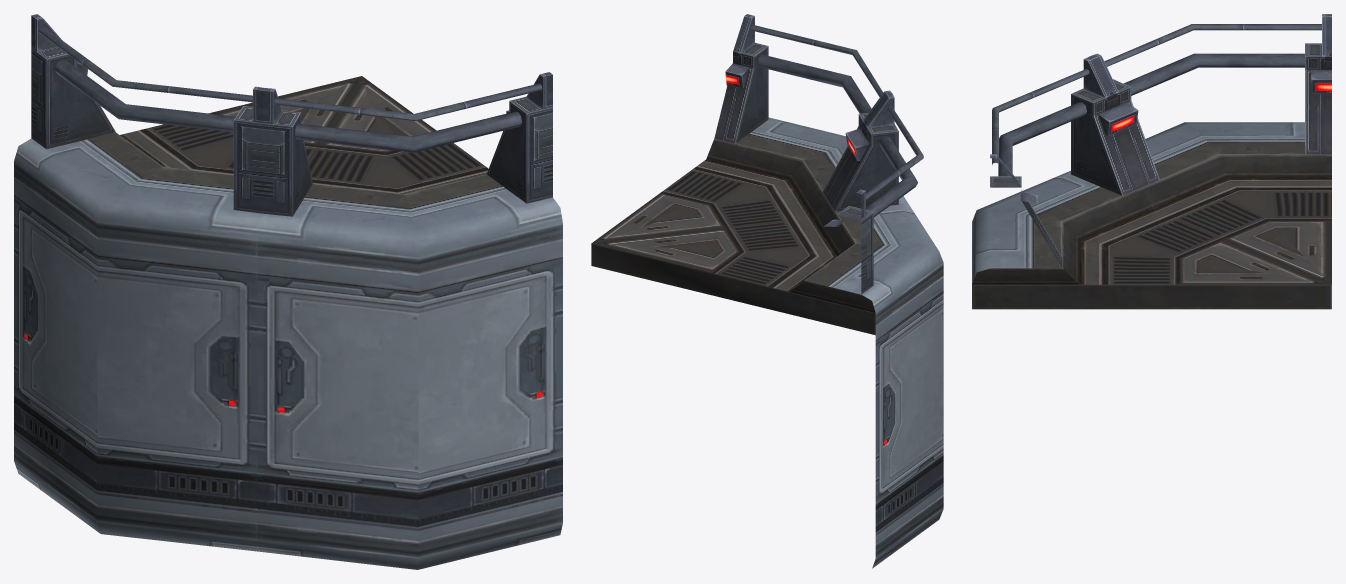
Rendered from all_arch_imp_wallset_h3m_12m_wbot_cap.glb.
3 renders of one model, left to right at view 1: azimuth 30°, elevation 25°; view 2: azimuth 150°, elevation 25°; view 3: azimuth 270°, elevation 25°, orthographic. The views are drawn at different scales.
Visible parts, largest first — view 1: all_arch_imp_wallset_h3m_12m_wbot_cap; view 2: all_arch_imp_wallset_h3m_12m_wbot_cap; view 3: all_arch_imp_wallset_h3m_12m_wbot_cap.
Part boxes in pixels (x1,y1,x2,y2): all_arch_imp_wallset_h3m_12m_wbot_cap: (14,14,562,569); all_arch_imp_wallset_h3m_12m_wbot_cap: (591,14,943,568); all_arch_imp_wallset_h3m_12m_wbot_cap: (972,14,1331,309).
Bounding box in the file's own units: 0.4 × 0.505 × 0.4.
2 materials, 2 textured.
